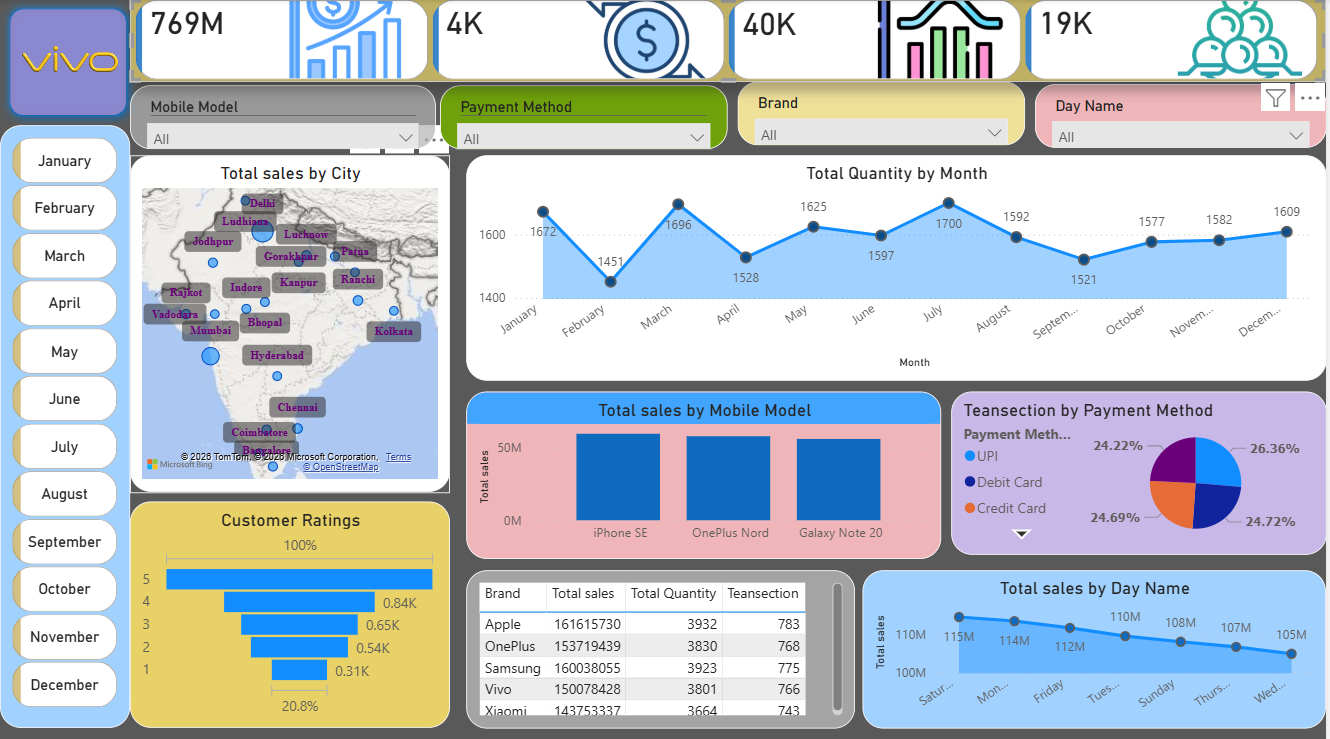

This screenshot's page, from the dashboard's own definition file:
{"tool":"powerbi","page":{"name":"Page 1","canvas":[1280,720],"ordinal":0},"visuals":[{"type":"shape","box":[0,0,131.5,121.9],"z":0},{"type":"image","box":[9.7,38.6,115.8,38.6],"z":1000},{"type":"shape","box":[0,121.9,125.5,581.5],"z":2000},{"type":"advancedSlicerVisual","fields":{"Values":["Mobile_data.Date.Variation.Date Hierarchy.Month"]},"box":[0,121.9,125.5,581.5],"z":3000},{"type":"cardVisual","fields":{"Data":["Mobile_data.Total sales","Mobile_data.Teansection","Mobile_data.Average","Mobile_data.Total Quantity"]},"box":[125,0,1155,80],"z":4000},{"type":"map","fields":{"Category":["Mobile_data.City"],"Size":["Mobile_data.Total sales"]},"box":[125,151.2,308.8,325],"z":5000},{"type":"lineChart","fields":{"Y":["Mobile_data.Total Quantity"],"Category":["Mobile_data.Date.Variation.Date Hierarchy.Month","Mobile_data.Date.Variation.Date Hierarchy.Day"]},"box":[450,151.2,830,217.5],"z":6000},{"type":"clusteredColumnChart","fields":{"Category":["Mobile_data.Mobile Model"],"Y":["Mobile_data.Total sales"]},"box":[450,378.8,458.8,161.2],"z":7000},{"type":"pieChart","fields":{"Category":["Mobile_data.Payment Method"],"Y":["Mobile_data.Teansection"]},"box":[917.5,378.8,362.5,157.5],"z":8000},{"type":"funnel","title":" Customer Ratings","fields":{"Category":["Mobile_data.Customer Ratings"],"Y":["CountNonNull(Mobile_data.Customer Ratings)"]},"box":[125.5,485,308.8,218.4],"z":9000},{"type":"areaChart","fields":{"Category":["Mobile_data.Day Name.1"],"Y":["Mobile_data.Total sales"]},"box":[832.5,551.2,447.5,152.5],"z":10000},{"type":"tableEx","fields":{"Values":["Mobile_data.Brand","Mobile_data.Total sales","Mobile_data.Total Quantity","Mobile_data.Teansection"]},"box":[450,551.2,375,152.5],"z":11000},{"type":"slicer","fields":{"Values":["Mobile_data.Mobile Model"]},"box":[125.5,83.2,295.6,61.5],"z":12000},{"type":"slicer","fields":{"Values":["Mobile_data.Brand"]},"box":[711.8,79.6,277.5,61.5],"z":13000},{"type":"slicer","fields":{"Values":["Mobile_data.Payment Method"]},"box":[425,83.8,277.5,61.2],"z":14000},{"type":"slicer","fields":{"Values":["Mobile_data.Day Name"]},"box":[998.8,82.5,281.2,61.2],"z":15000}]}

Visuals, with their boxes in screenshot pixels (x1, y1, x2, y2), scaled from the page's 1280x720 canvas onto the 1330x739 screenshot:
shape: <box>0,0,137,125</box>
image: <box>10,40,130,79</box>
shape: <box>0,125,130,722</box>
advancedSlicerVisual - Mobile_data.Date.Variation.Date Hierarchy.Month: <box>0,125,130,722</box>
cardVisual - Mobile_data.Total sales x Mobile_data.Teansection: <box>130,0,1329,82</box>
map - Mobile_data.City x Mobile_data.Total sales: <box>130,155,451,489</box>
lineChart - Mobile_data.Total Quantity x Mobile_data.Date.Variation.Date Hierarchy.Month: <box>468,155,1329,378</box>
clusteredColumnChart - Mobile_data.Mobile Model x Mobile_data.Total sales: <box>468,389,944,554</box>
pieChart - Mobile_data.Payment Method x Mobile_data.Teansection: <box>953,389,1329,550</box>
" Customer Ratings" funnel: <box>130,498,451,722</box>
areaChart - Mobile_data.Day Name.1 x Mobile_data.Total sales: <box>865,566,1329,722</box>
tableEx - Mobile_data.Brand x Mobile_data.Total sales: <box>468,566,857,722</box>
slicer - Mobile_data.Mobile Model: <box>130,85,438,149</box>
slicer - Mobile_data.Brand: <box>740,82,1028,145</box>
slicer - Mobile_data.Payment Method: <box>442,86,730,149</box>
slicer - Mobile_data.Day Name: <box>1038,85,1329,147</box>
